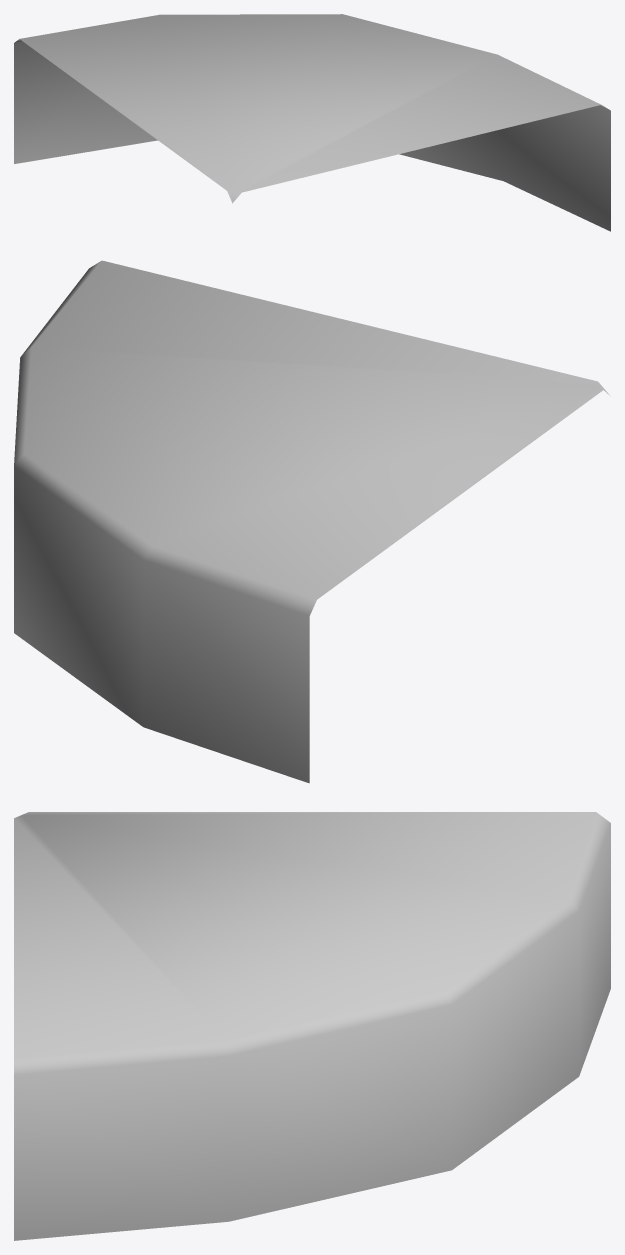
The model's file is CurbCorner_2.FBX.
3 renders of one model, top to bottom at view 1: azimuth 30°, elevation 25°; view 2: azimuth 150°, elevation 25°; view 3: azimuth 270°, elevation 25°, orthographic. The views are drawn at different scales.
Parts seen in each view (by area): view 1: CurbCorner_2; view 2: CurbCorner_2; view 3: CurbCorner_2.
Part boxes in pixels (box(x1,y1,x2,y2)): CurbCorner_2: box(14, 14, 610, 231); CurbCorner_2: box(14, 260, 609, 783); CurbCorner_2: box(14, 812, 610, 1240).
Size of the model in its own units: 32.26 by 10.53 by 32.26.
Materials: 1 (1 with a texture image).
